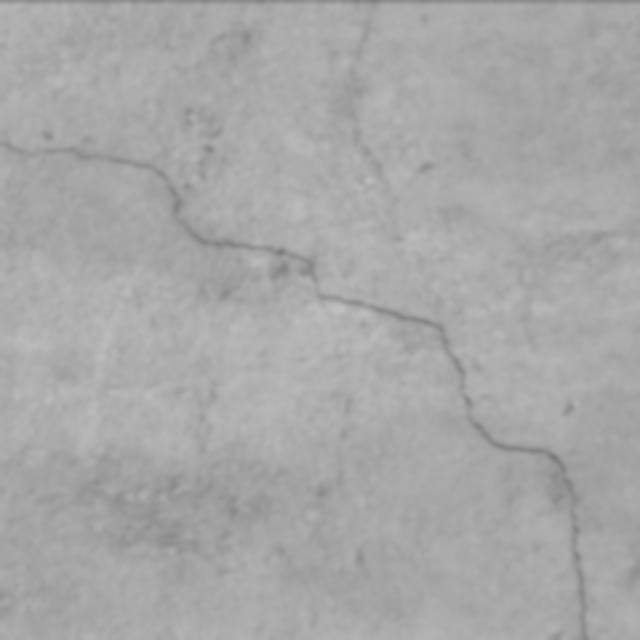SurfaceCrack: (2, 81, 637, 640)
